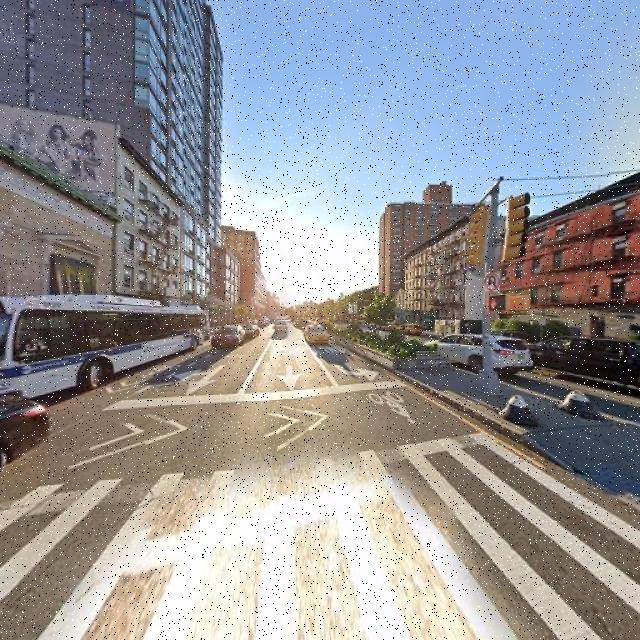Building: (1, 144, 114, 367), (500, 179, 640, 353), (119, 142, 180, 347), (407, 222, 464, 335)
